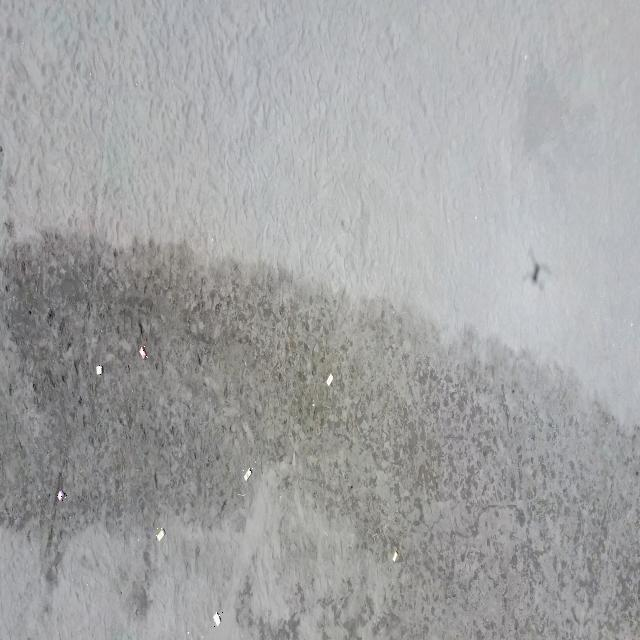Garbage: (212, 612, 221, 626), (139, 344, 147, 359), (55, 488, 64, 500), (243, 467, 251, 480), (156, 527, 164, 540), (326, 372, 332, 384), (392, 548, 397, 562), (96, 364, 101, 375), (312, 402, 315, 407)
